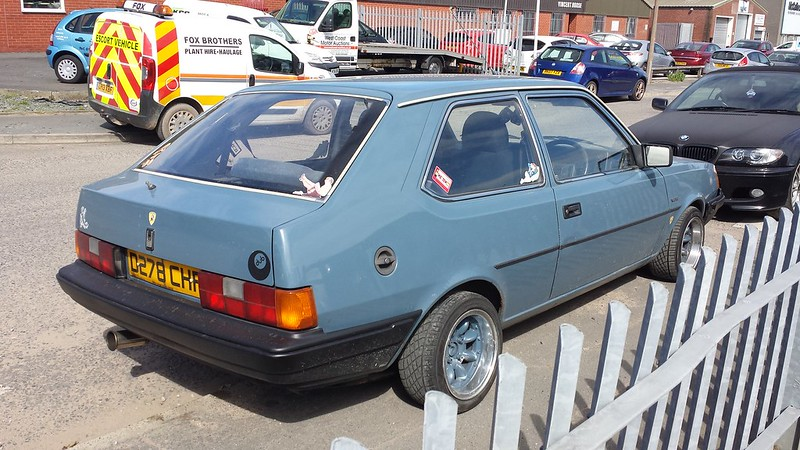number_plate: (116, 247, 209, 305), (92, 77, 120, 94), (542, 66, 567, 76)
